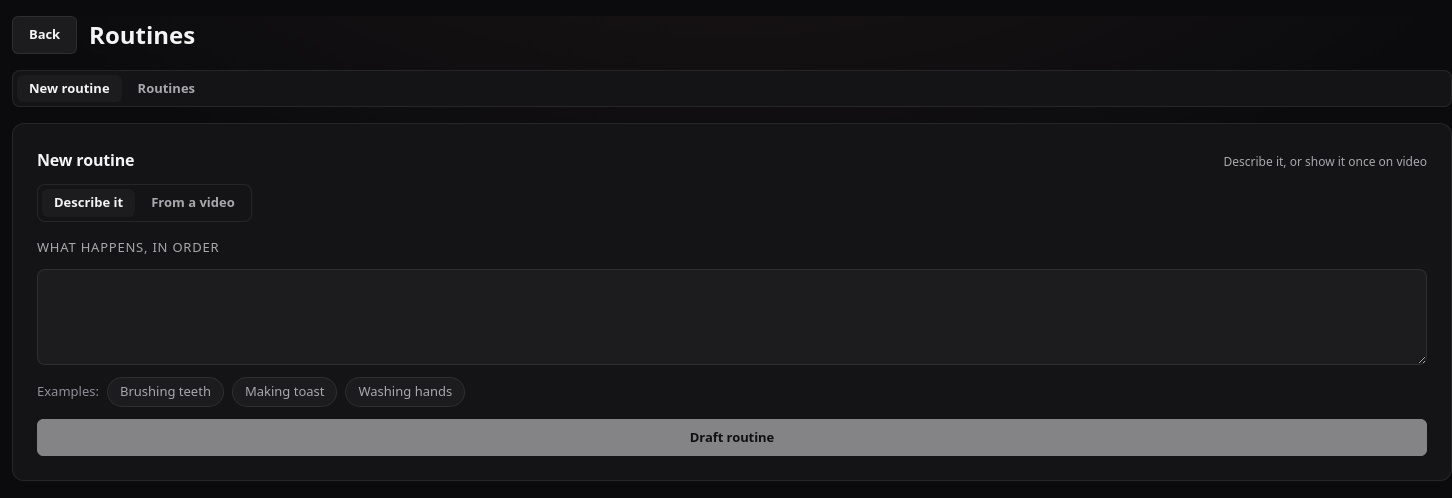
Scenario: RoutinesScreen › lists the built-in routines
The width and height of the screenshot is (1452, 498).
Click the button "Routines" at [166, 88], box x1=126 y1=74 x2=207 y2=102
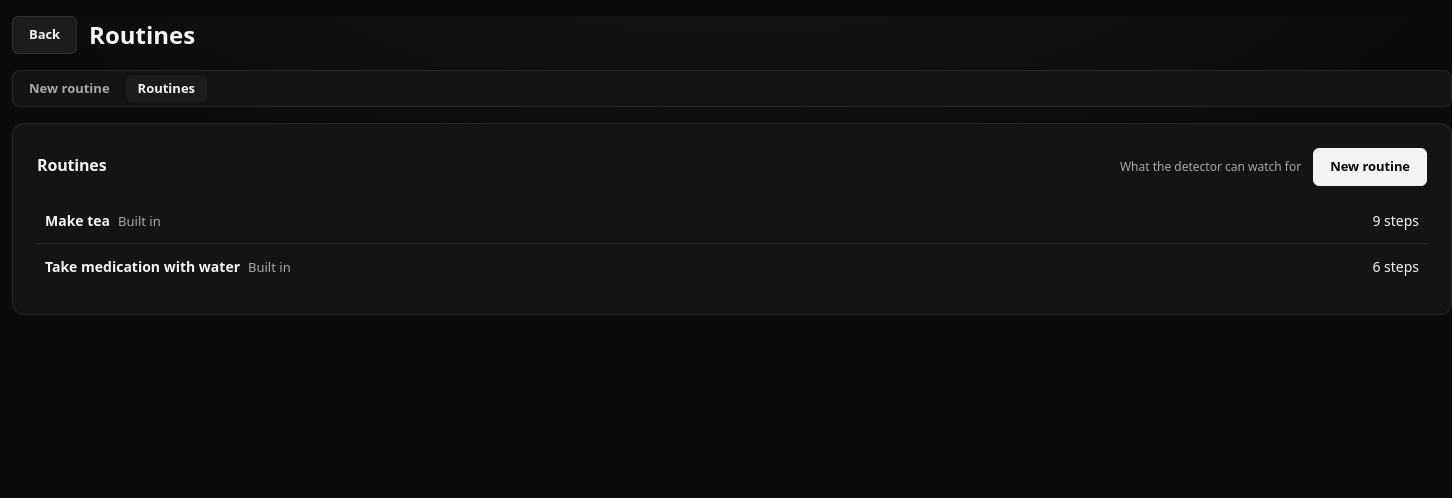
Expected: the text "Make tea" is shown, x1=45 y1=210 x2=110 y2=230
Expected: the text "Take medication with water" is shown, x1=45 y1=256 x2=240 y2=277
Expected: the text "9 steps" is shown, x1=1372 y1=210 x2=1419 y2=231
